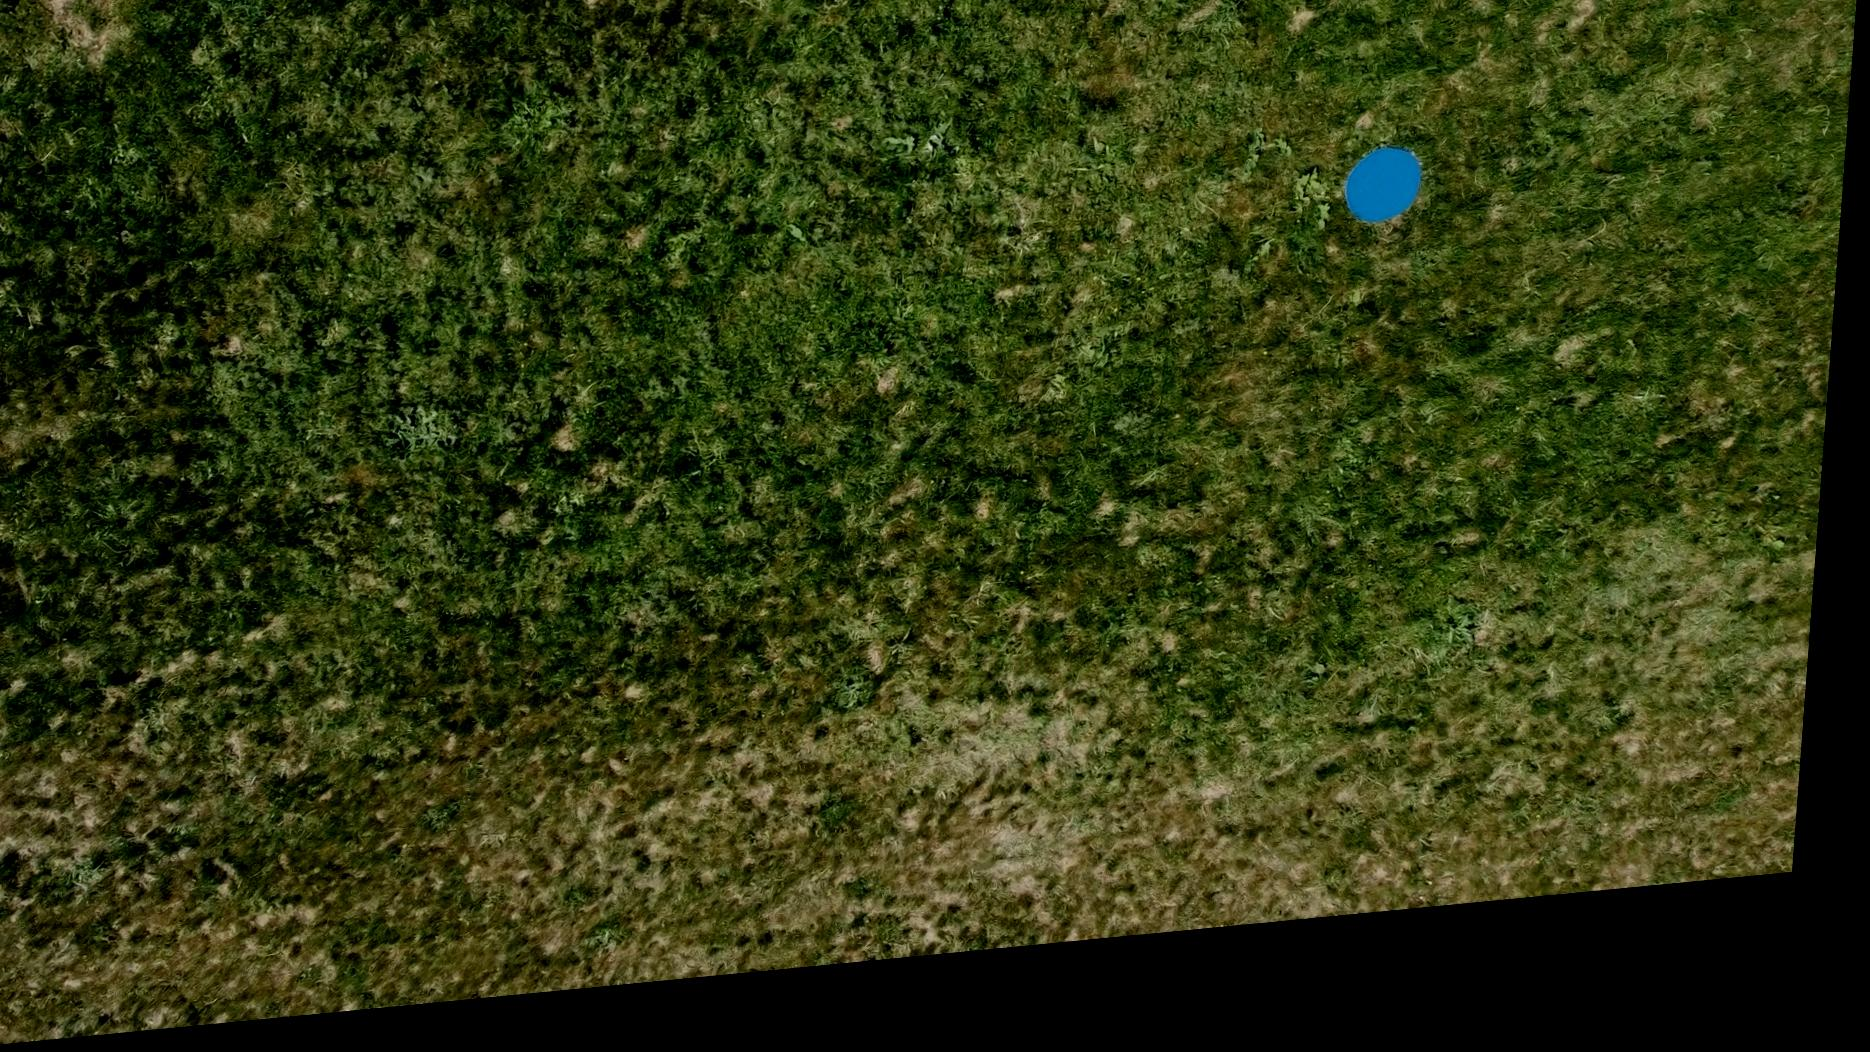Blue: (1343, 171, 1433, 256)
